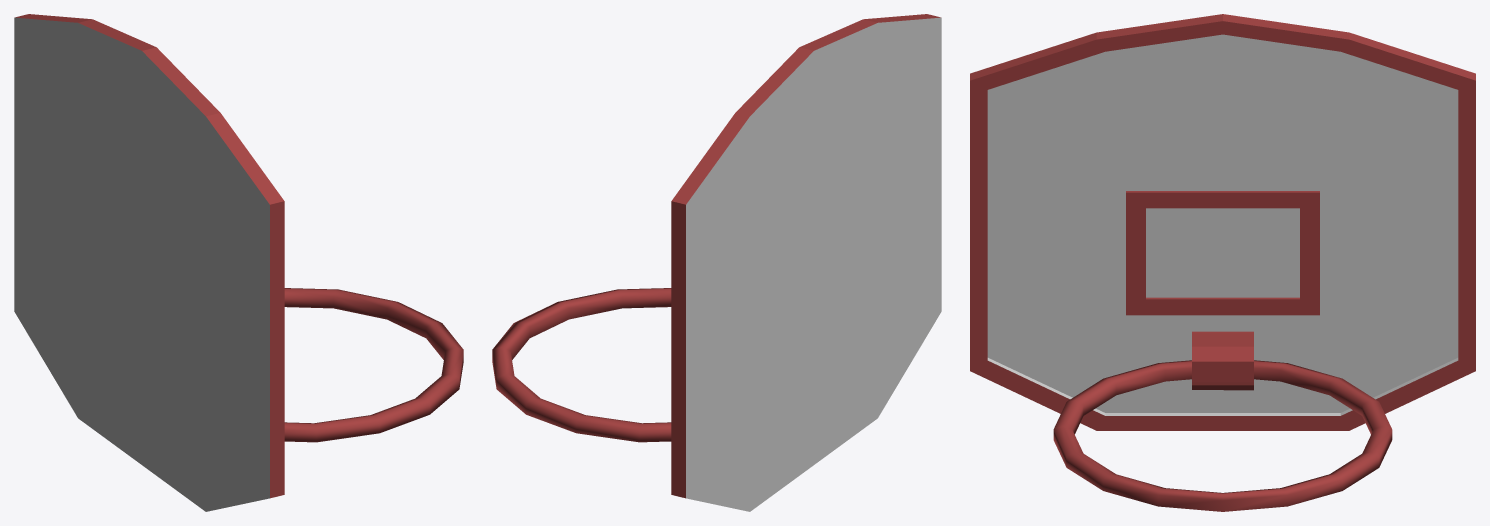
The model's file is PanierBasket.fbx.
The picture shows the model from 3 angles, left to right: view 1: azimuth 30°, elevation 25°; view 2: azimuth 150°, elevation 25°; view 3: azimuth 270°, elevation 25°; orthographic projection.
Parts seen in each view (by area): view 1: PanierBasket; view 2: PanierBasket; view 3: PanierBasket.
Part boxes in pixels (x1=…): PanierBasket: x1=14, y1=14, x2=463, y2=511; PanierBasket: x1=492, y1=14, x2=941, y2=511; PanierBasket: x1=970, y1=14, x2=1475, y2=511.
Bounding box in the file's own units: 20.17 × 26.59 × 29.75.
